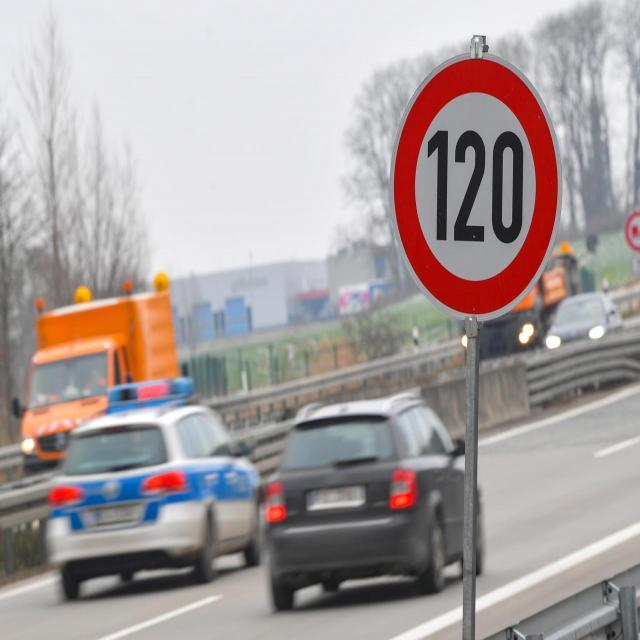speed limit 120: (389, 53, 561, 320)
